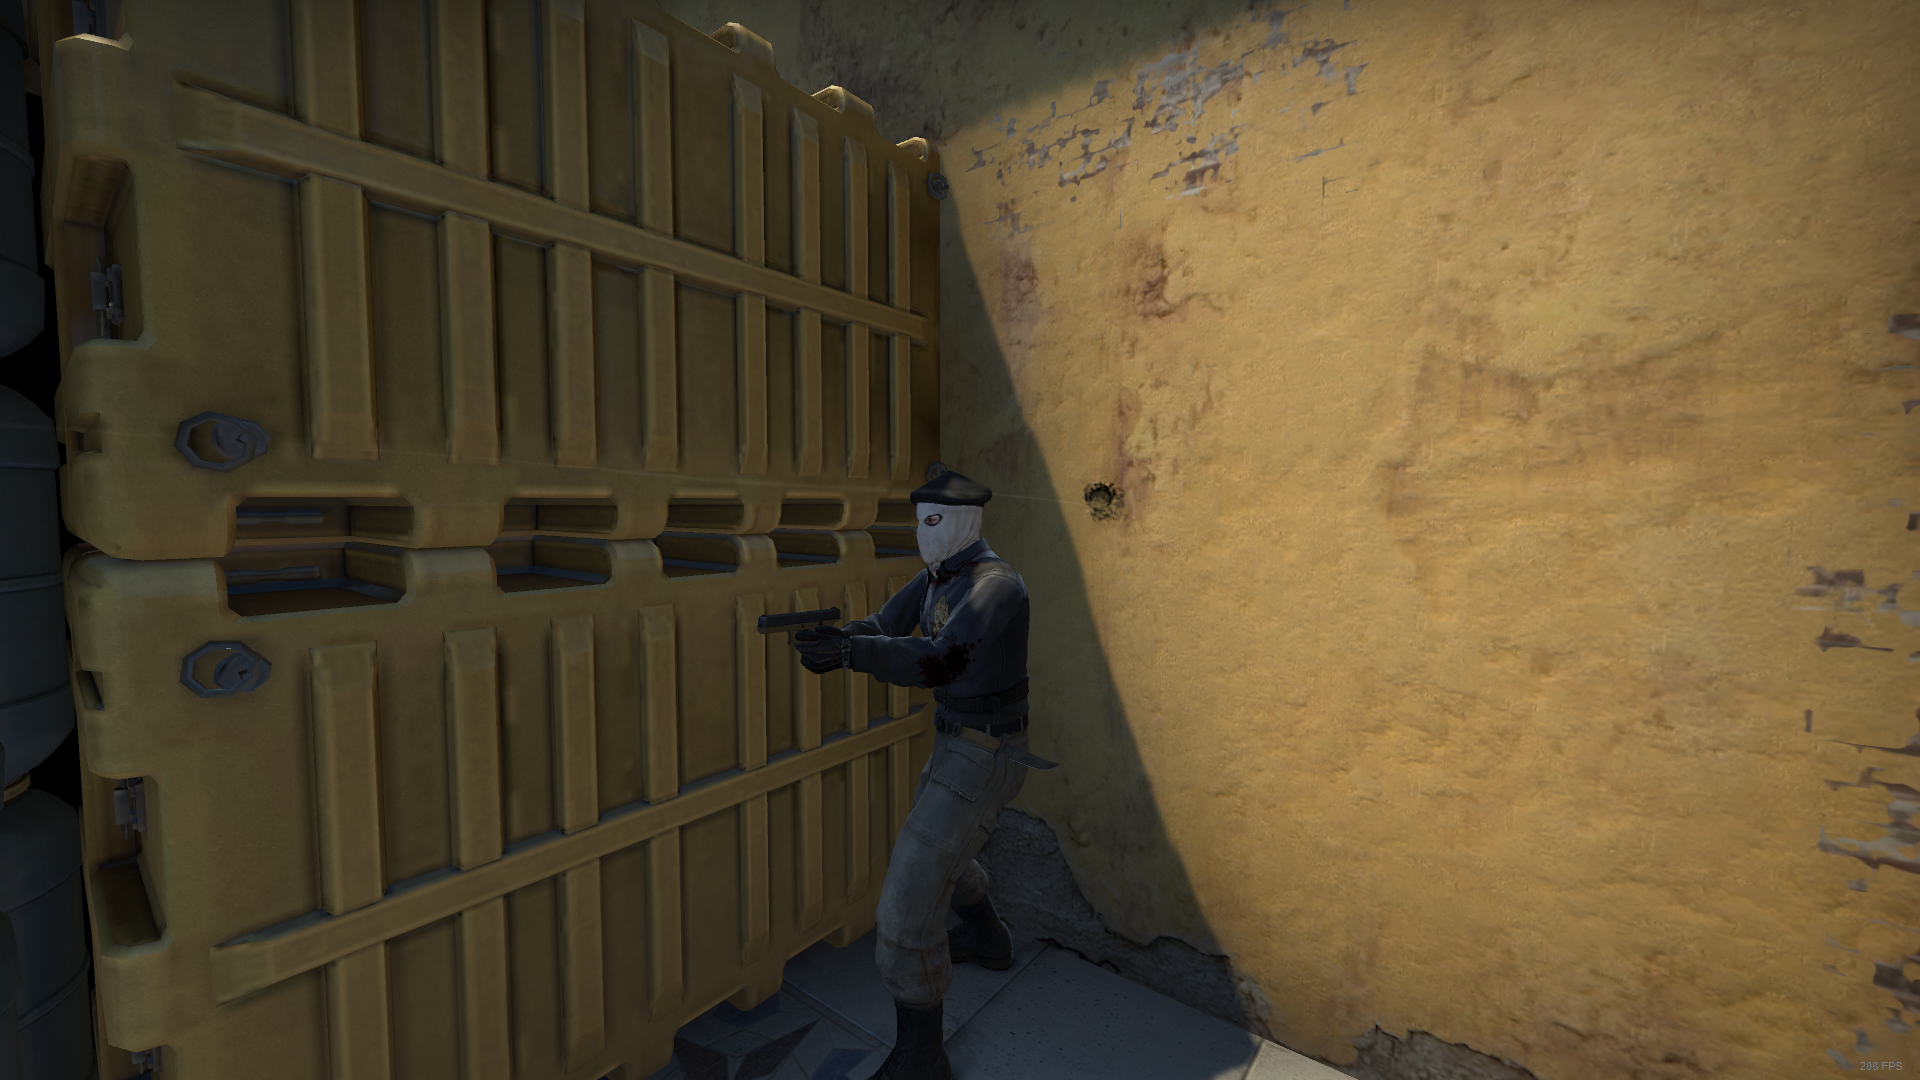t: (771, 433, 1083, 1079)
